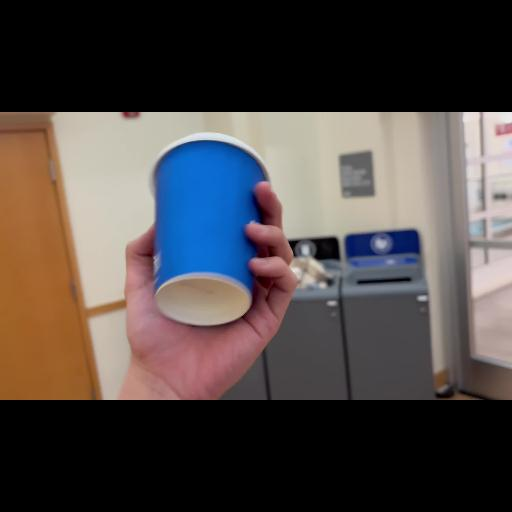lp_paper_cup: (142, 135, 286, 331)
